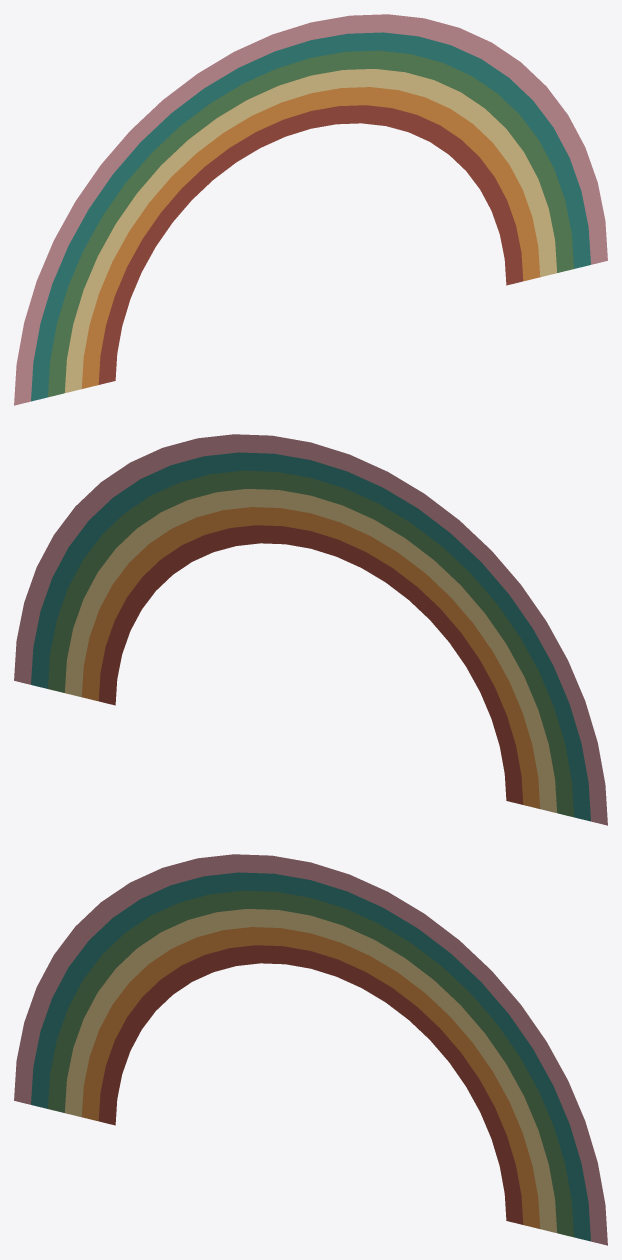
The model's file is rainbow_arc.glb.
3 views of the same model, one above another, from view 1: azimuth 30°, elevation 25°; view 2: azimuth 150°, elevation 25°; view 3: azimuth 330°, elevation 25° (orthographic).
Parts seen in each view (by area): view 1: rainbow_band.005, rainbow_band.004, rainbow_band.003, rainbow_band.002, rainbow_band.001, rainbow_band; view 2: rainbow_band.005, rainbow_band.004, rainbow_band.003, rainbow_band.002, rainbow_band.001, rainbow_band; view 3: rainbow_band.005, rainbow_band.004, rainbow_band.003, rainbow_band.002, rainbow_band.001, rainbow_band.
Part boxes in pixels (x1,y1,x2,y2): rainbow_band.005: (14, 14, 607, 405); rainbow_band.004: (31, 32, 590, 401); rainbow_band.003: (48, 50, 573, 397); rainbow_band.002: (65, 69, 556, 392); rainbow_band.001: (81, 87, 540, 388); rainbow_band: (98, 105, 523, 384); rainbow_band.005: (14, 434, 607, 825); rainbow_band.004: (31, 452, 590, 821); rainbow_band.003: (48, 470, 573, 817); rainbow_band.002: (65, 489, 556, 812); rainbow_band.001: (81, 507, 540, 808); rainbow_band: (98, 525, 523, 804); rainbow_band.005: (14, 854, 607, 1245); rainbow_band.004: (31, 872, 590, 1241); rainbow_band.003: (48, 890, 573, 1237); rainbow_band.002: (65, 909, 556, 1232); rainbow_band.001: (81, 927, 540, 1228); rainbow_band: (98, 945, 523, 1224).
Size of the model in its own units: 4.56 by 2.28 by 0.
